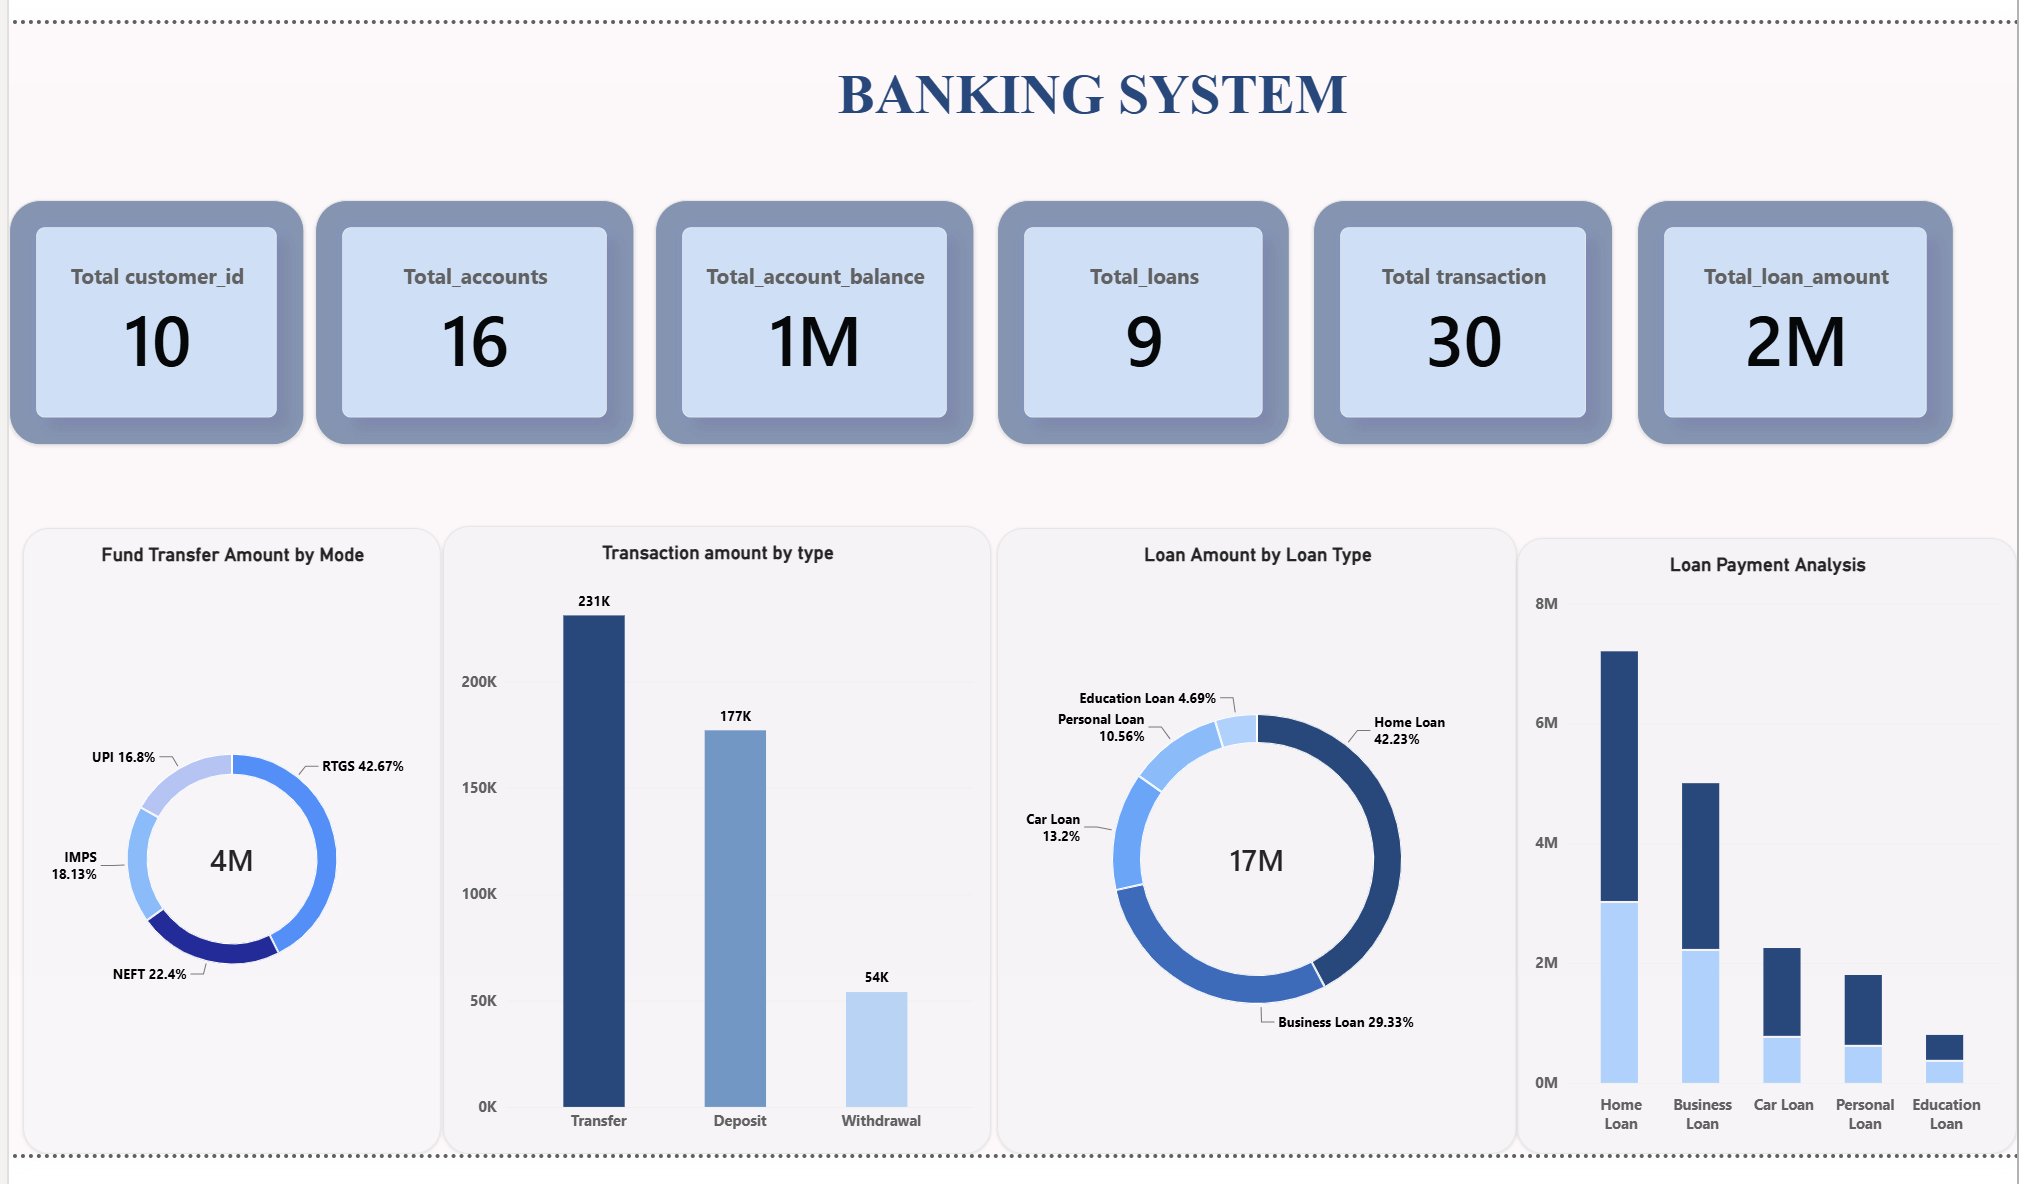

This screenshot's page, from the dashboard's own definition file:
{"tool":"powerbi","page":{"name":"Page 1","canvas":[1920,1080],"ordinal":0},"visuals":[{"type":"cardVisual","fields":{"Data":["Count(banking_customer_financial_summary (1).customer_id)"]},"box":[0,167.7,282.5,234.3],"z":0,"group":"g2"},{"type":"cardVisual","fields":{"Data":["Sum(banking_customer_financial_summary (1).total_accounts)"]},"box":[291.7,167.7,305.5,234.3],"z":1000,"group":"g2"},{"type":"donutChart","title":"Loan Amount by Loan Type","fields":{"Category":["banking_loan_analysis.loan_type"],"Y":["Sum(banking_loan_analysis.total_loan_amount)"]},"box":[944.7,481.9,497.2,598.6],"z":1000},{"type":"cardVisual","fields":{"Data":["Sum(banking_customer_financial_summary (1).total_account_balance)"]},"box":[617.8,167.7,305.5,234.3],"z":2000,"group":"g2"},{"type":"clusteredColumnChart","title":"Transaction amount by type","fields":{"Category":["banking_transactions (2).transaction_type"],"Y":["Sum(banking_transactions (2).amount)"]},"box":[415,480,524,600.5],"z":2000},{"type":"cardVisual","fields":{"Data":["Sum(banking_customer_financial_summary (1).total_loans)"]},"box":[943.9,167.7,280.2,234.3],"z":3000,"group":"g2"},{"type":"donutChart","title":"Fund Transfer Amount by Mode","fields":{"Category":["Table (3).transfer_mode"],"Y":["Sum(Table (3).total_amount)"]},"box":[13.4,481.9,399.7,598.6],"z":3000},{"type":"cardVisual","fields":{"Data":["Sum(banking_customer_financial_summary (1).total_loan_amount)"]},"box":[1557.1,167.7,303.2,234.3],"z":4000,"group":"g2"},{"type":"textbox","box":[0,799,429,214],"z":4000},{"type":"cardVisual","fields":{"Data":["CountNonNull(banking_transactions.transaction_id)"]},"box":[1247.1,167.7,287.1,234.3],"z":5000,"group":"g2"},{"type":"columnChart","title":"Loan Payment Analysis","fields":{"Category":["Loan Payment.loan_type"],"Y":["Sum(Loan Payment.remaining_amount)","Sum(Loan Payment.total_paid)"]},"box":[1441.9,491.5,478.1,589],"z":6000},{"type":"group","id":"g1","title":"Group 1","box":[0,167.7,1860.3,234.3],"z":7000},{"type":"textbox","box":[222.8,36.7,1628.3,170],"z":9000},{"type":"group","id":"g2","title":"Group 2","box":[0,167.7,1860.3,234.3],"z":9001,"group":"g1"}]}

Visuals, with their boxes on the page's 1920x1080 design canvas (x1, y1, x2, y2). These are canvas units, not pixel positions in the 2026x1184 screenshot, which may show the page scaled, cropped or inside an application window:
cardVisual - Count(banking_customer_financial_summary (1).customer_id): 0/168/282/402
cardVisual - Sum(banking_customer_financial_summary (1).total_accounts): 292/168/597/402
"Loan Amount by Loan Type" donutChart: 945/482/1442/1080
cardVisual - Sum(banking_customer_financial_summary (1).total_account_balance): 618/168/923/402
"Transaction amount by type" clusteredColumnChart: 415/480/939/1080
cardVisual - Sum(banking_customer_financial_summary (1).total_loans): 944/168/1224/402
"Fund Transfer Amount by Mode" donutChart: 13/482/413/1080
cardVisual - Sum(banking_customer_financial_summary (1).total_loan_amount): 1557/168/1860/402
textbox: 0/799/429/1013
cardVisual - CountNonNull(banking_transactions.transaction_id): 1247/168/1534/402
"Loan Payment Analysis" columnChart: 1442/492/1920/1080
"Group 1" group: 0/168/1860/402
textbox: 223/37/1851/207
"Group 2" group: 0/168/1860/402
